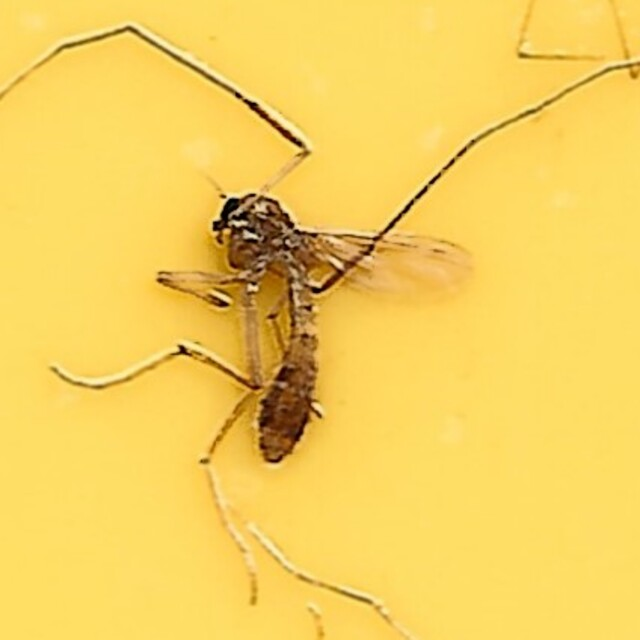Nematocera: (151, 163, 489, 477)
